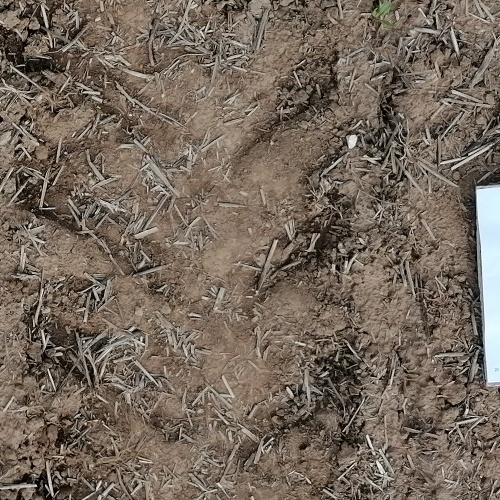beet: (375, 0, 395, 26)
